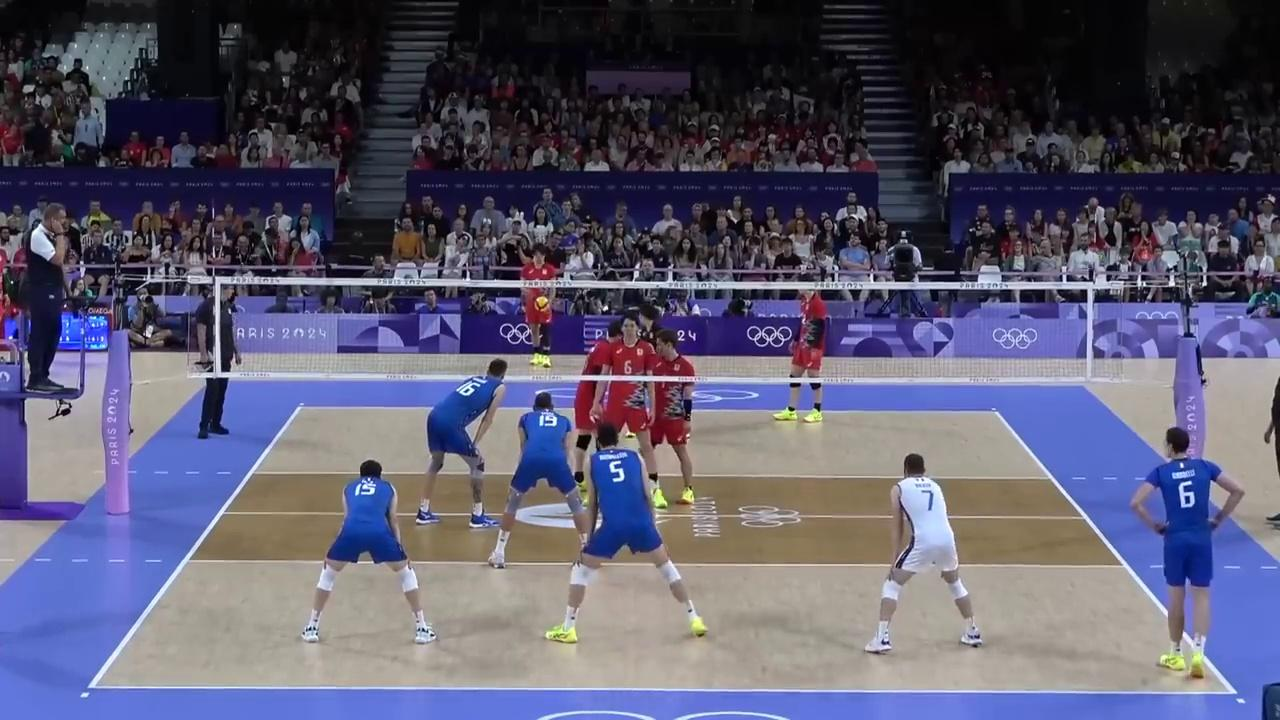ball: (537, 297, 549, 312)
